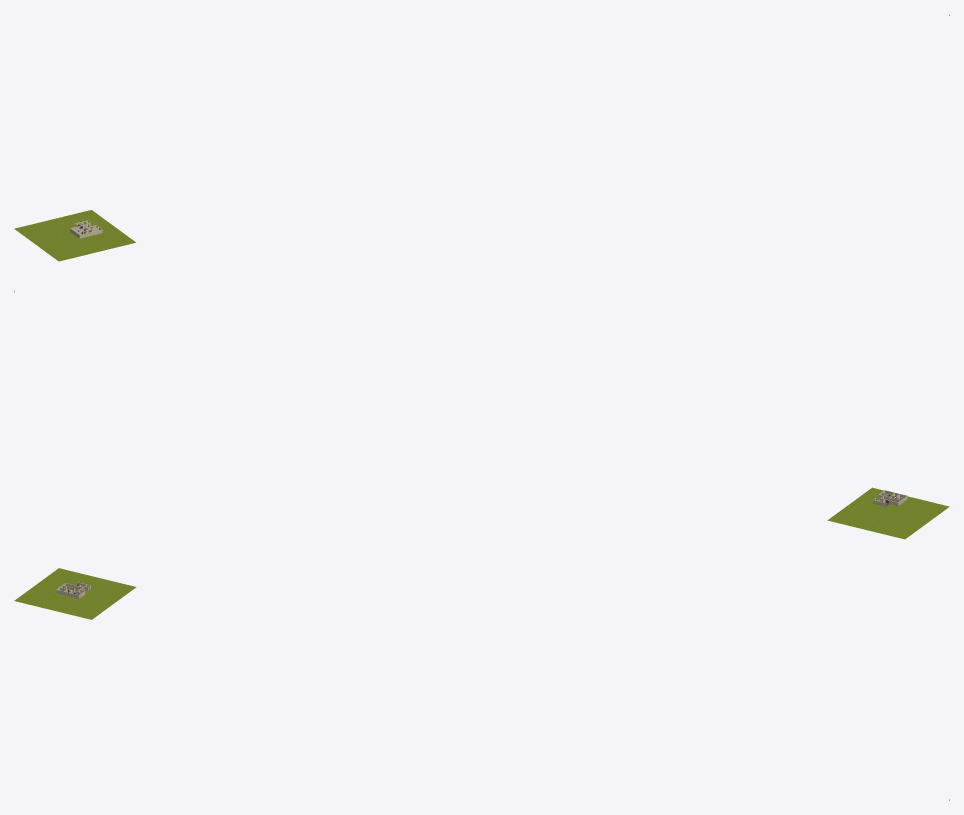
File: mapa_casa_00.glb
3 renders of one model, top to bottom at view 1: azimuth 30°, elevation 25°; view 2: azimuth 150°, elevation 25°; view 3: azimuth 330°, elevation 25°, orthographic.
Parts seen in each view (by area): view 1: Plane.001; view 2: Plane.001; view 3: Plane.001.
Boxes of the visible parts, bbox=[...] form: Plane.001: bbox=[14, 210, 135, 261]; Plane.001: bbox=[827, 487, 949, 539]; Plane.001: bbox=[14, 568, 136, 619].
Size of the model in its own units: 753 by 8.65 by 64.08.
Materials: 11 (9 with a texture image).
